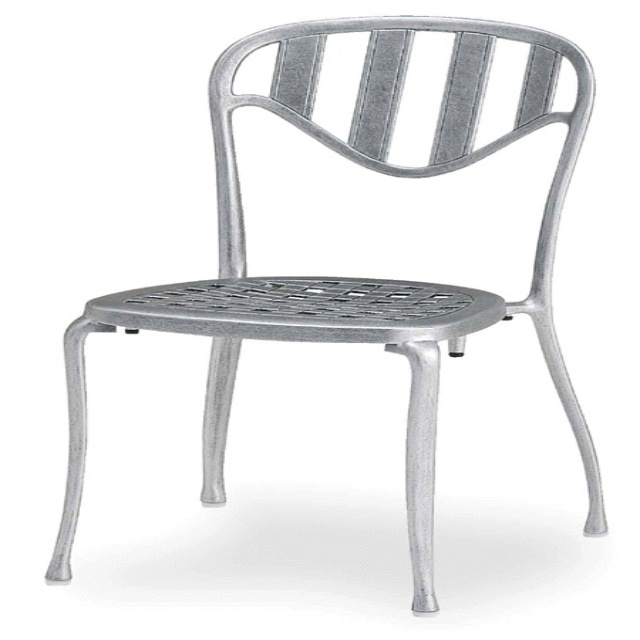obstacle: (46, 17, 606, 615)
